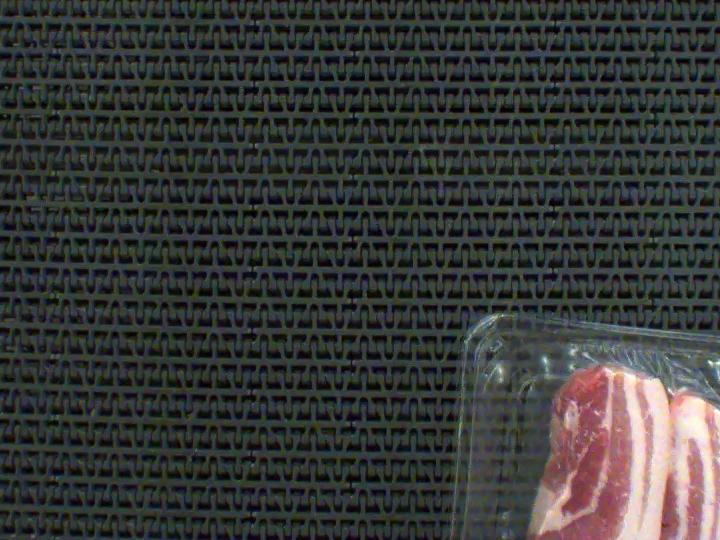unsealed: (508, 330, 720, 540)
